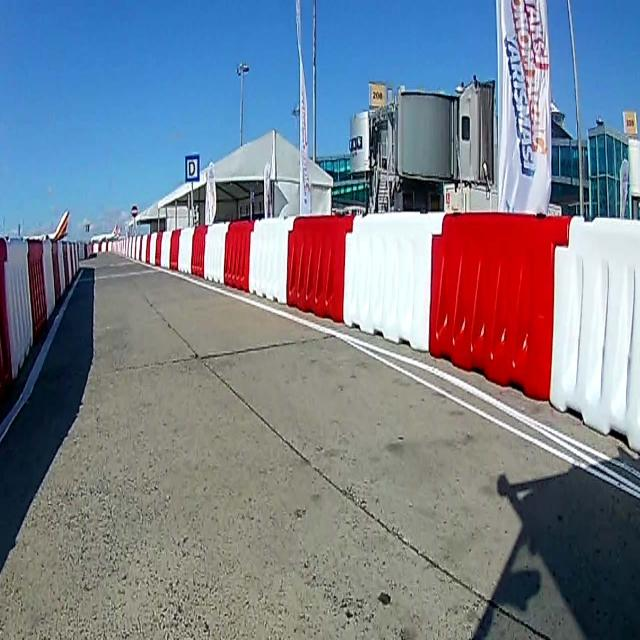durak: (184, 154, 200, 183)
girisyok: (131, 206, 138, 218)
